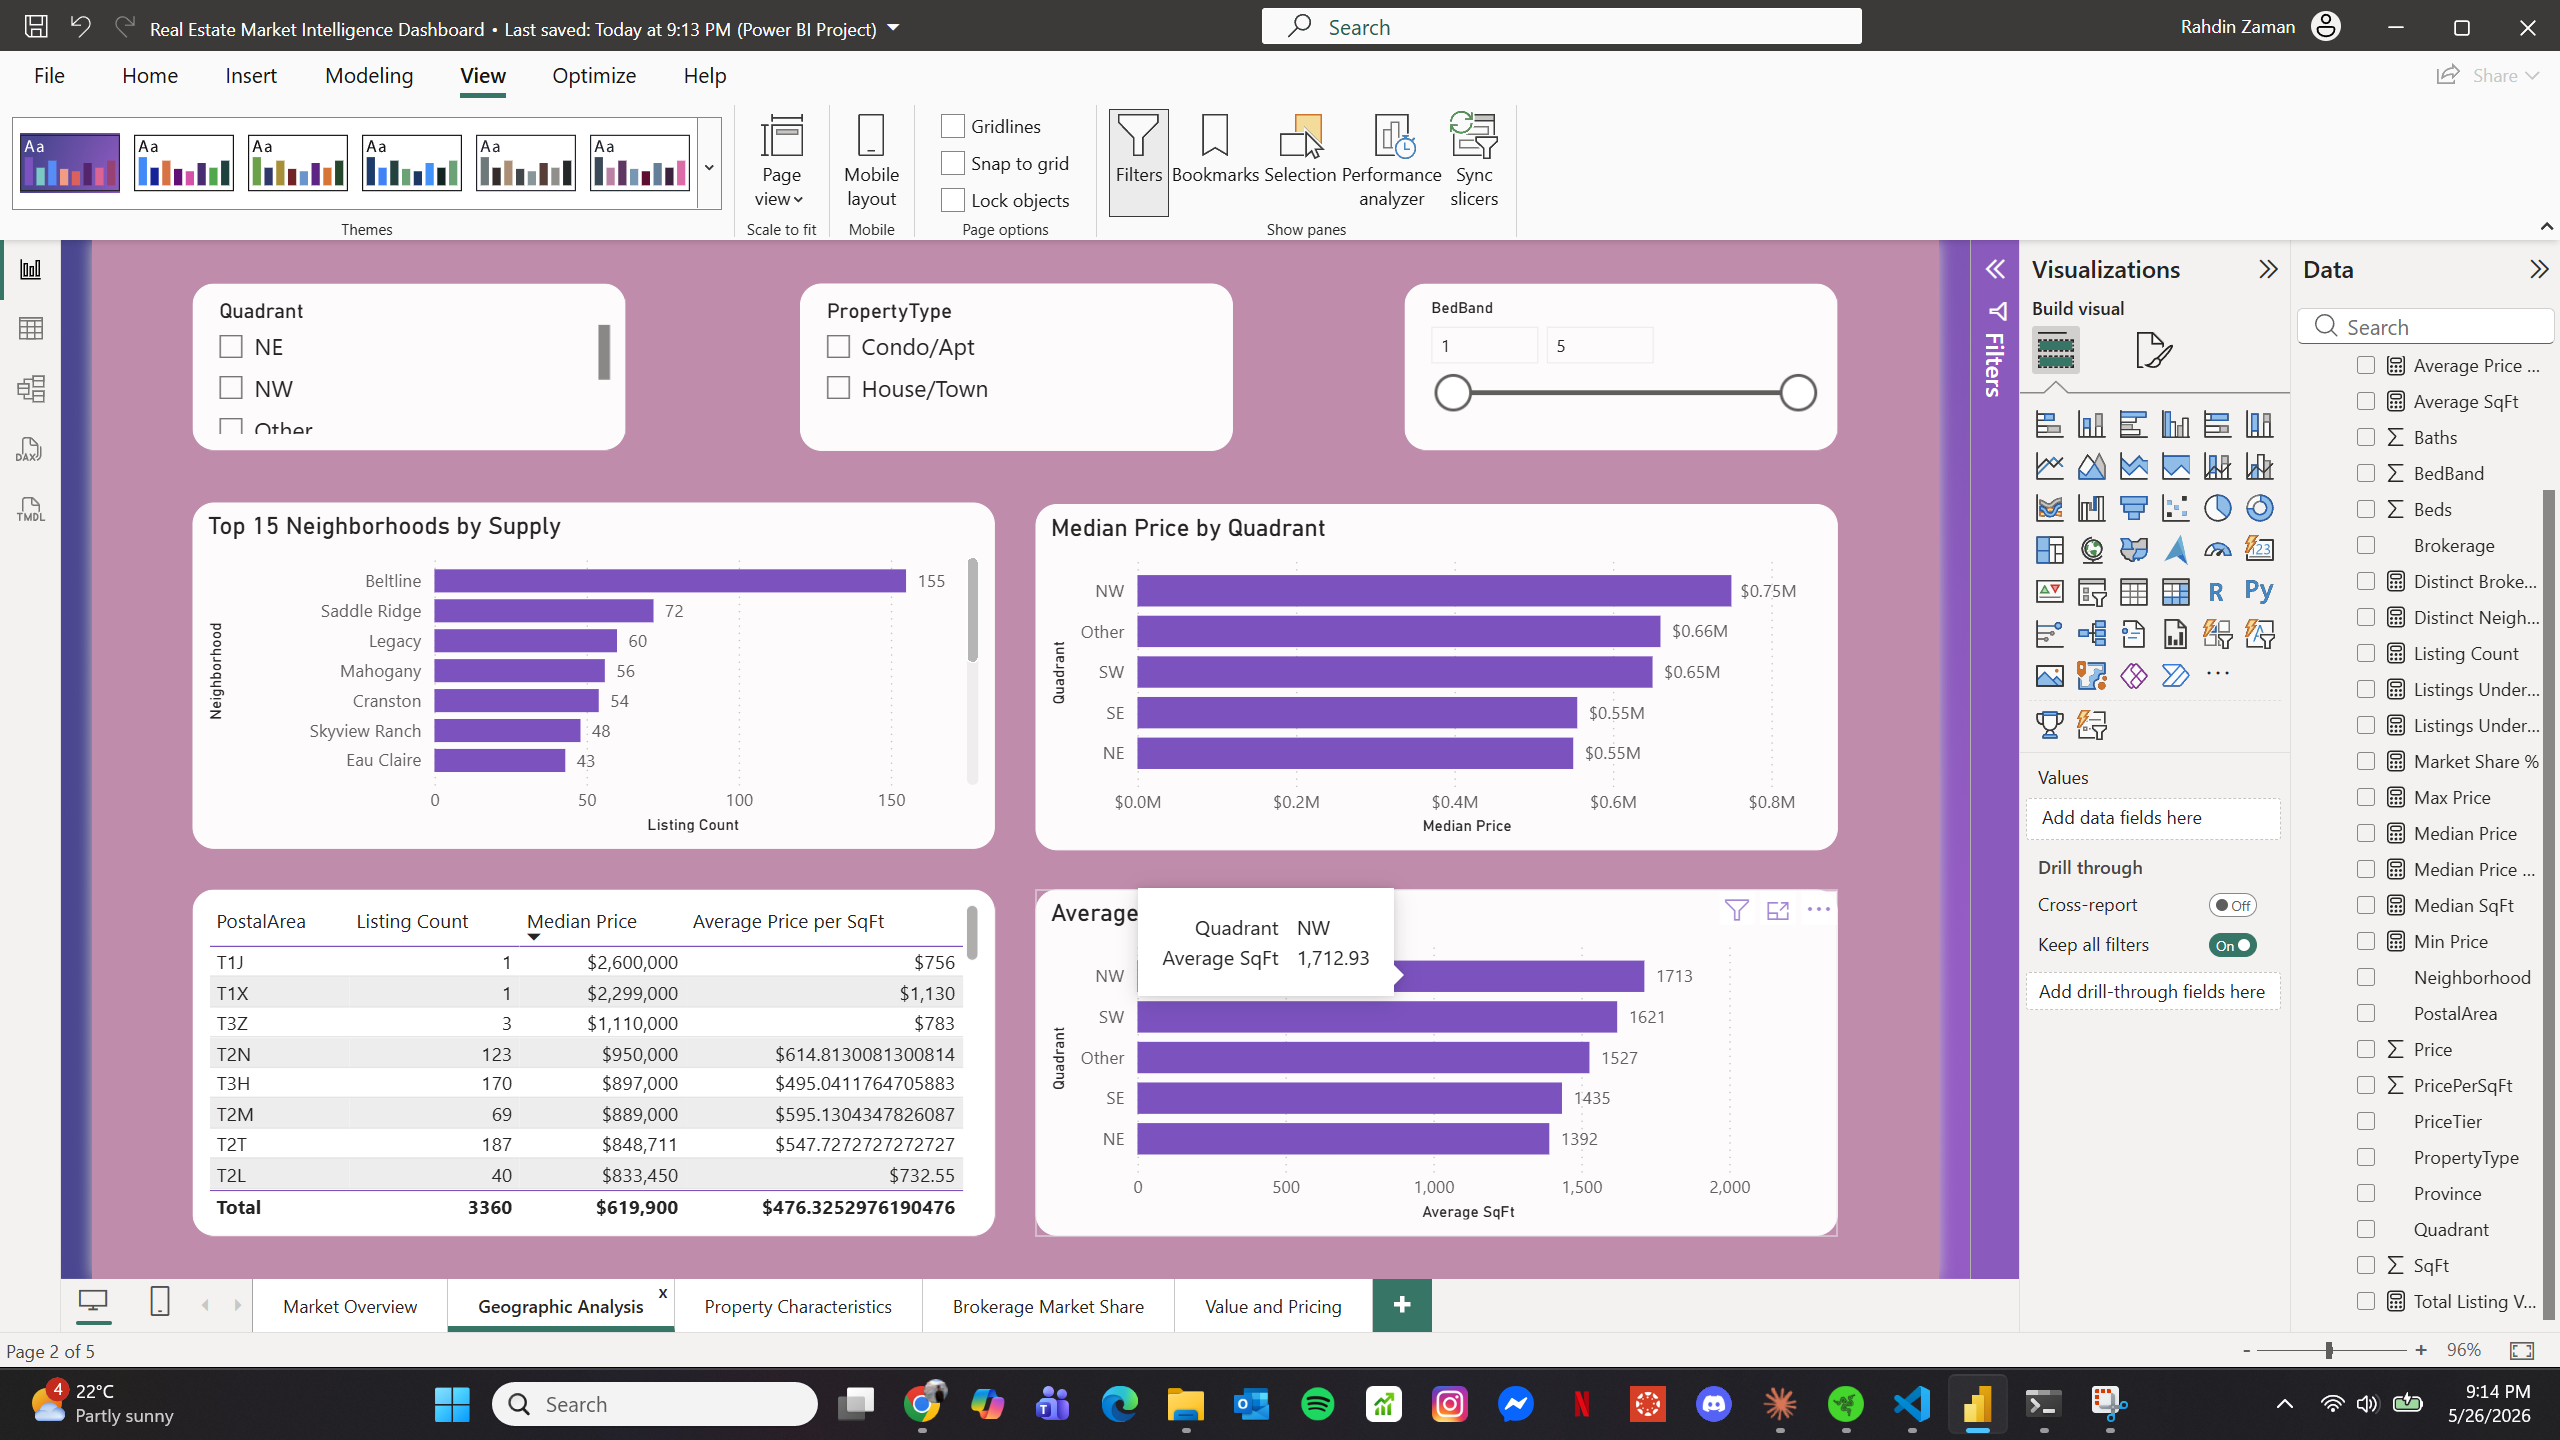

Layout of this report page (visuals, bound fields, positions):
{"tool":"powerbi","page":{"name":"Geographic Analysis","canvas":[1280,720],"ordinal":1},"visuals":[{"type":"clusteredBarChart","title":"Top 15 Neighborhoods by Supply","fields":{"Category":["Listings.Neighbourhood"],"Y":["Listings.Listing Count"]},"box":[25.5,0,690.6,409],"z":0},{"type":"barChart","fields":{"Category":["Listings.Quadrant"],"Y":["Listings.Median Price"]},"box":[716.1,0,564.3,296.6],"z":1},{"type":"clusteredBarChart","fields":{"Category":["Listings.Quadrant"],"Y":["Listings.Average SqFt"]},"box":[716.1,409,564.3,286.2],"z":2},{"type":"tableEx","fields":{"Values":["Listings.PostalArea","Listings.Listing Count","Listings.Median Price","Listings.Average Price per SqFt"]},"box":[25.5,409,640.8,286.2],"z":3}]}

Visuals, with their boxes on the page's 1280x720 design canvas (x1, y1, x2, y2). These are canvas units, not pixel positions in the 2560x1440 screenshot, which may show the page scaled, cropped or inside an application window:
"Top 15 Neighborhoods by Supply" clusteredBarChart: [26,0,716,409]
barChart - Listings.Quadrant x Listings.Median Price: [716,0,1280,297]
clusteredBarChart - Listings.Quadrant x Listings.Average SqFt: [716,409,1280,695]
tableEx - Listings.PostalArea x Listings.Listing Count: [26,409,666,695]
